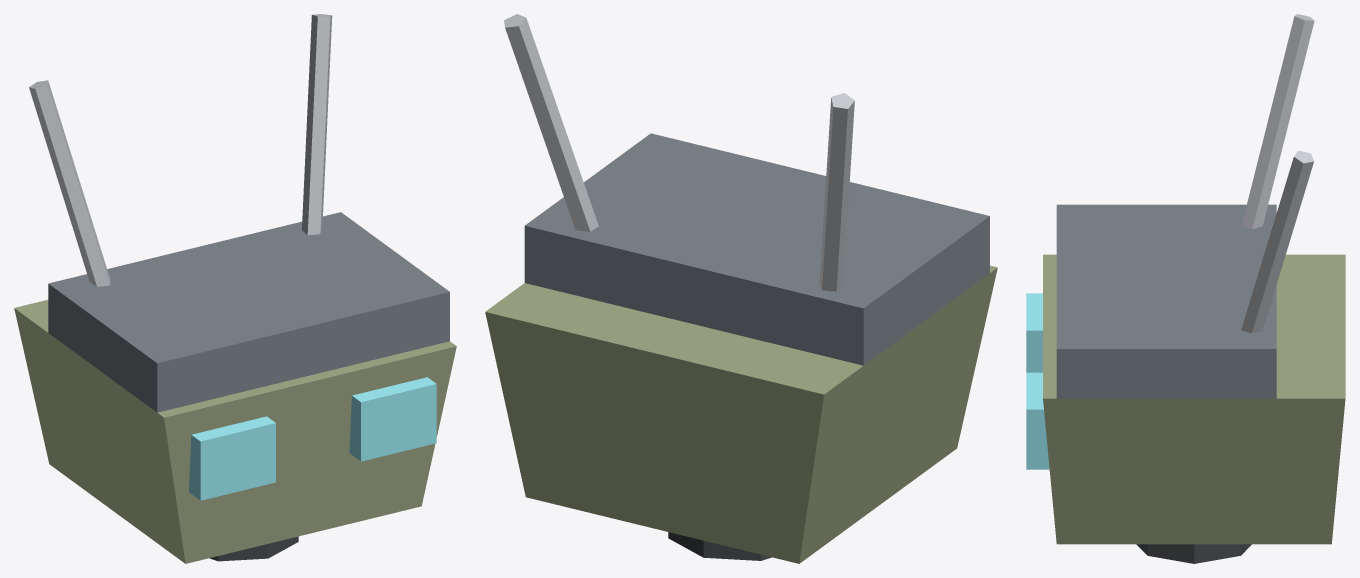
Rendered from mod-line-mech-head-26877.glb.
3 views of the same model, side by side, from view 1: azimuth 30°, elevation 25°; view 2: azimuth 150°, elevation 25°; view 3: azimuth 270°, elevation 25° (orthographic). The views are drawn at different scales.
Size of the model in its own units: 2.68 by 3.82 by 2.44.
